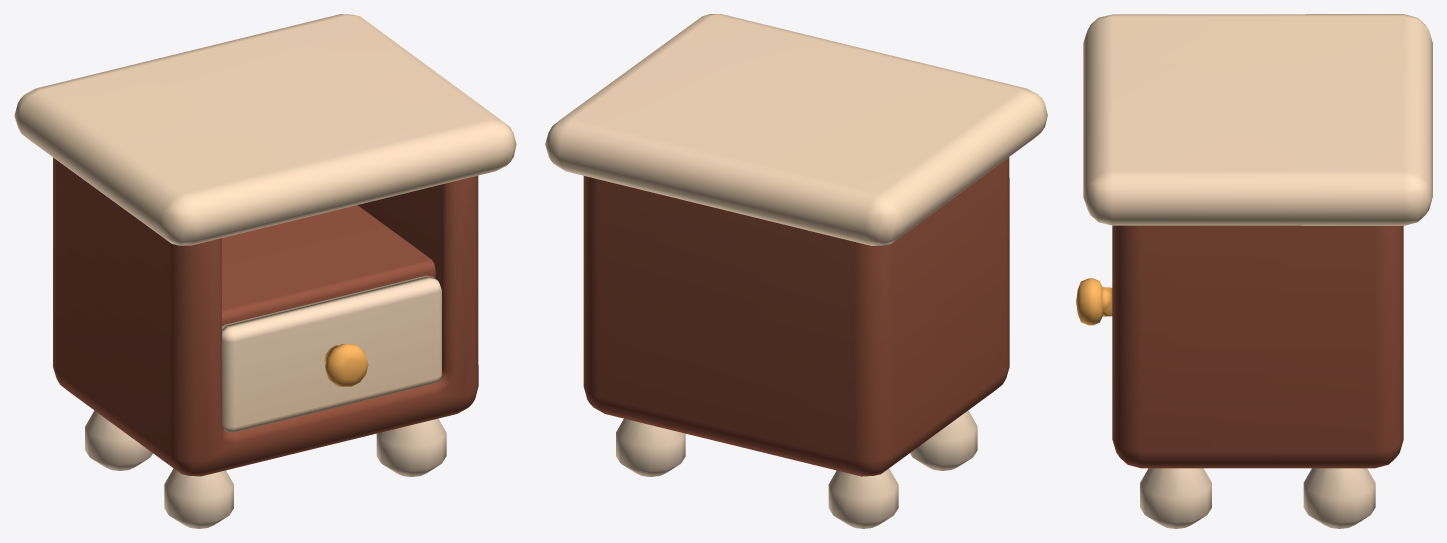
File: Nightstand_001.glb
3 renders of one model, left to right at view 1: azimuth 30°, elevation 25°; view 2: azimuth 150°, elevation 25°; view 3: azimuth 270°, elevation 25°, orthographic. The views are drawn at different scales.
Visible parts, largest first — view 1: Nightstand_001; view 2: Nightstand_001; view 3: Nightstand_001.
Boxes of the visible parts, x1,y1,x2,y2 form: Nightstand_001: (14, 14, 516, 528); Nightstand_001: (545, 14, 1047, 528); Nightstand_001: (1076, 14, 1432, 528).
Bounding box in the file's own units: 0.58 × 0.5737 × 0.4898.
1 material, 1 textured.
